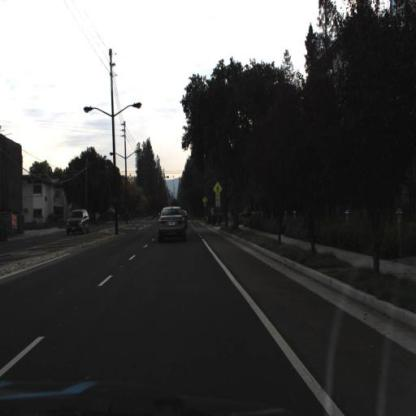car: (156, 203, 191, 247), (64, 206, 92, 239), (65, 208, 92, 238)
